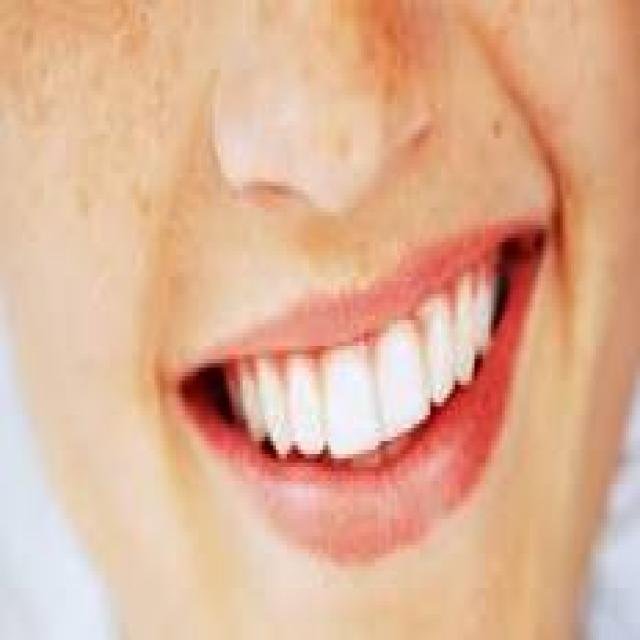tooth: (326, 368, 384, 450), (386, 342, 428, 424), (292, 372, 323, 441), (419, 320, 447, 394), (452, 302, 474, 380), (268, 380, 292, 446), (237, 376, 265, 424), (483, 286, 499, 354)
